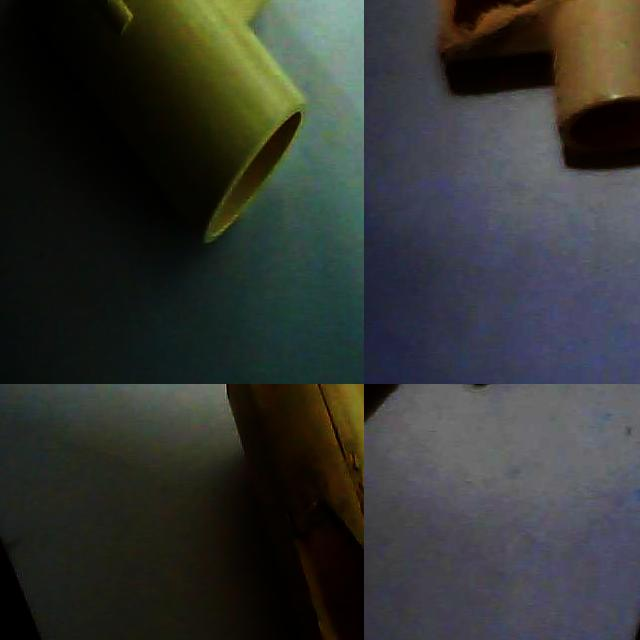Defective: (297, 502, 364, 640), (419, 0, 558, 52)
T Joint: (16, 0, 308, 247), (225, 384, 364, 640)
